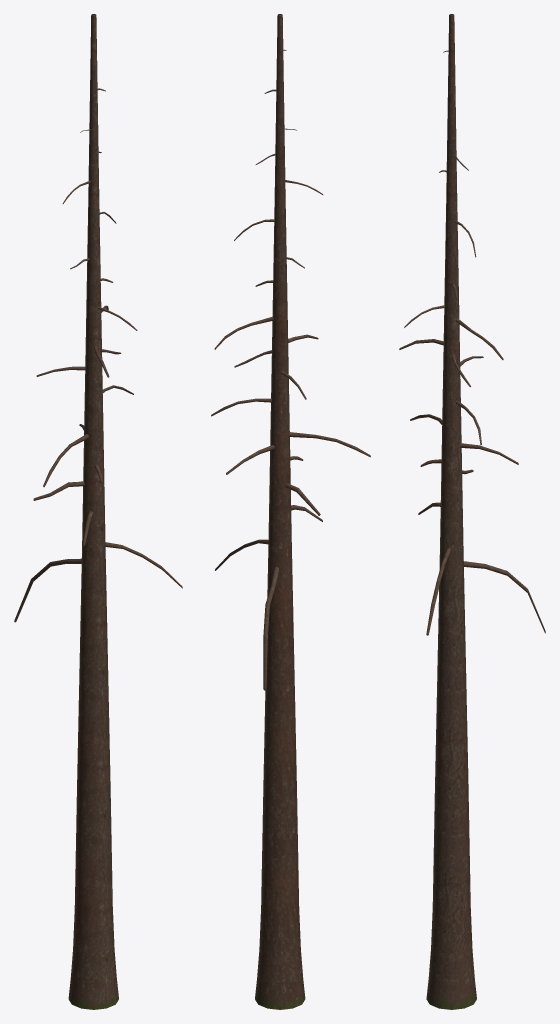
3 views of the same model, side by side, from view 1: azimuth 30°, elevation 25°; view 2: azimuth 150°, elevation 25°; view 3: azimuth 270°, elevation 25° (orthographic).
Parts seen in each view (by area): view 1: pine_low; view 2: pine_low; view 3: pine_low.
Part boxes in pixels (left/top/right/bottom): pine_low: left=14, top=14, right=182, bottom=1009; pine_low: left=211, top=14, right=370, bottom=1009; pine_low: left=399, top=14, right=545, bottom=1009.
Size of the model in its own units: 1.59 by 10.17 by 1.37.
1 material, 1 textured.
